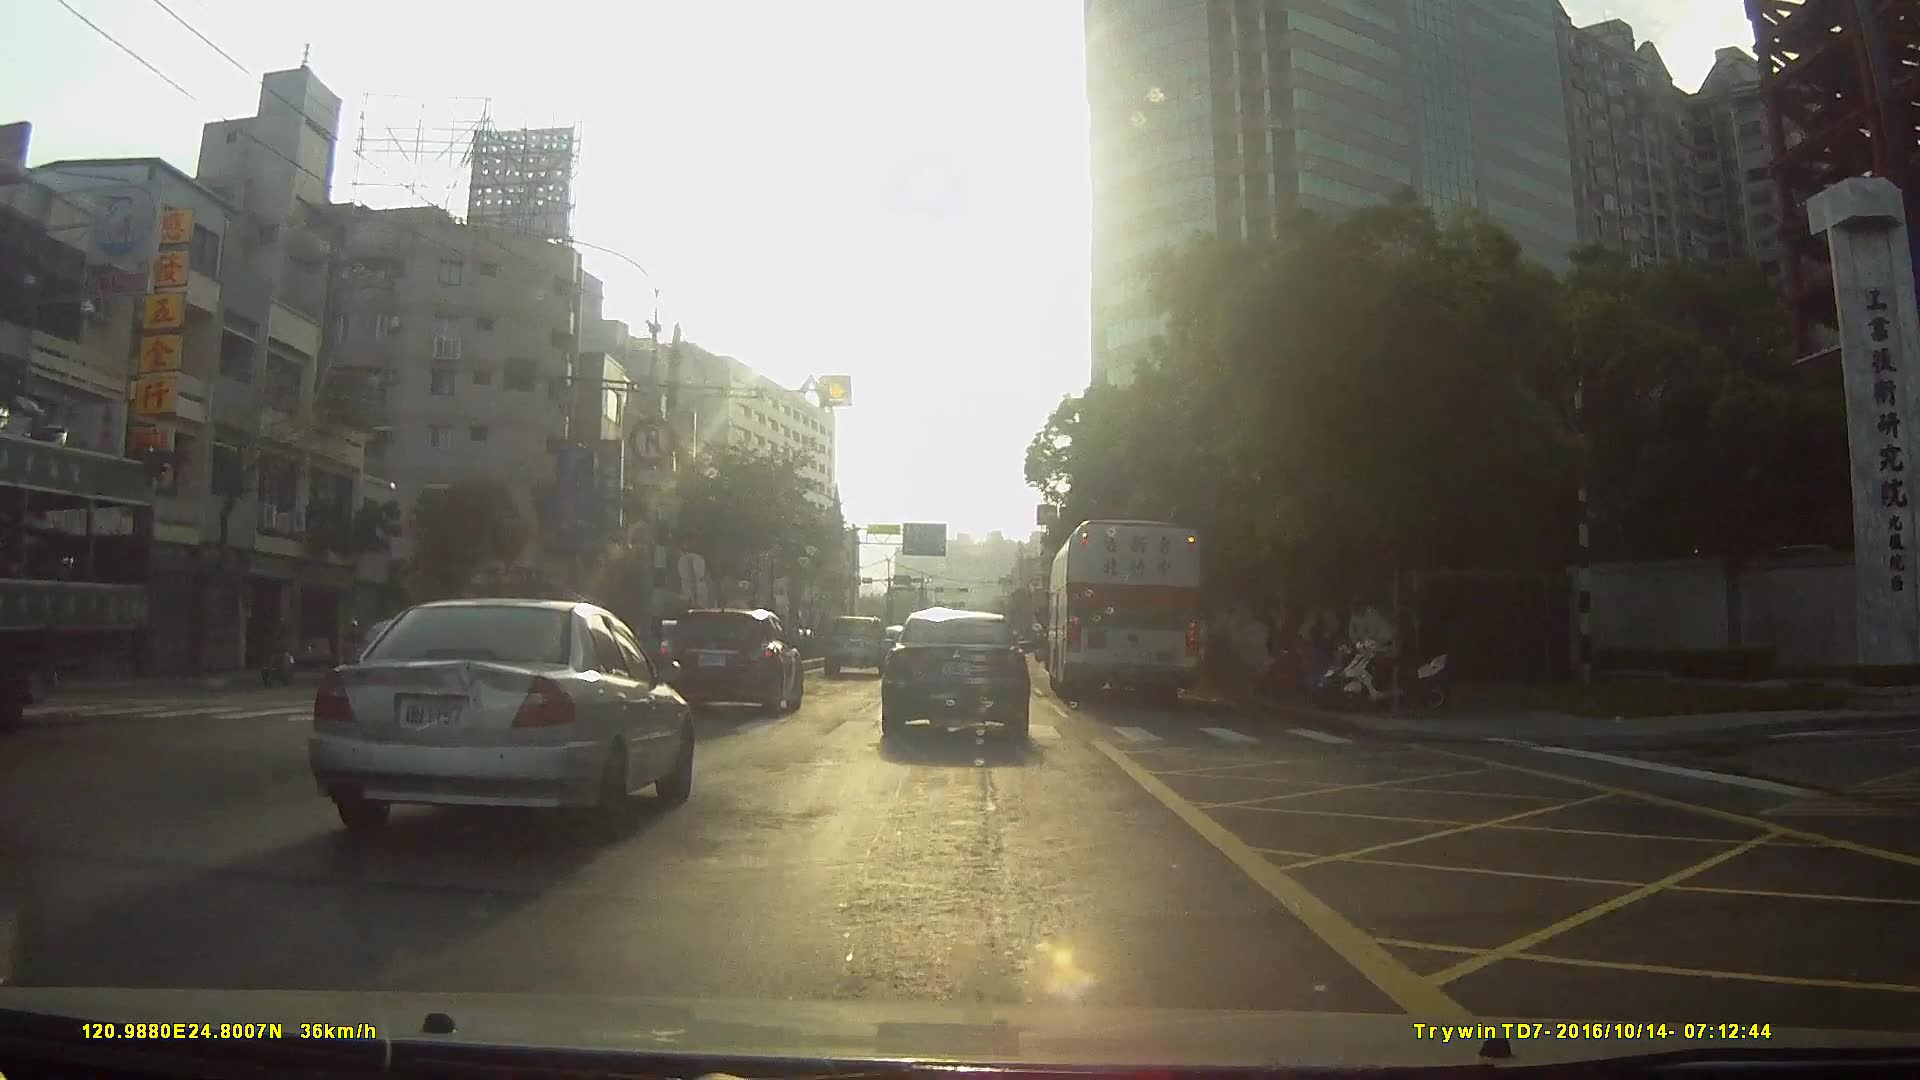rider: (262, 611, 303, 681)
vehicle: (300, 591, 692, 836), (1, 386, 173, 739), (1047, 511, 1208, 706), (880, 606, 1033, 745), (664, 604, 807, 716), (821, 613, 893, 678)
